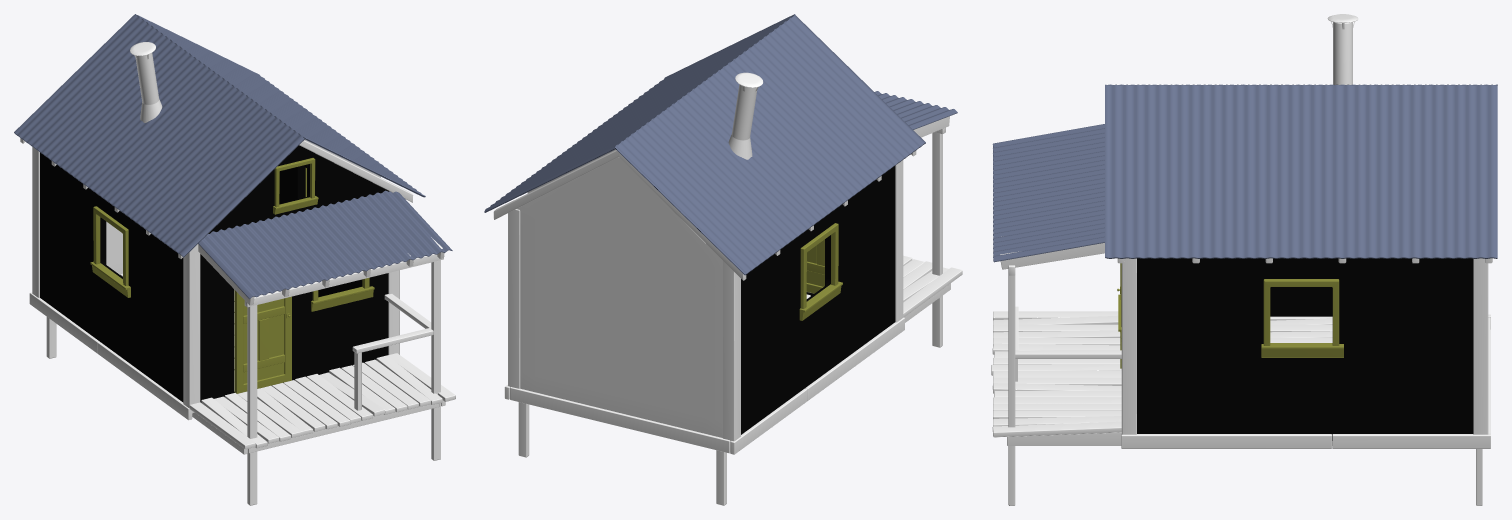
The model's file is MainBuilding_unwrapped.fbx.
3 views of the same model, side by side, from view 1: azimuth 30°, elevation 25°; view 2: azimuth 150°, elevation 25°; view 3: azimuth 270°, elevation 25° (orthographic). The views are drawn at different scales.
Visible parts, largest first — view 1: FrontWall_UVW001; view 2: FrontWall_UVW001; view 3: FrontWall_UVW001.
Boxes of the visible parts, x1,y1,x2,y2 form: FrontWall_UVW001: (14,14,455,505); FrontWall_UVW001: (484,14,962,505); FrontWall_UVW001: (991,14,1497,505).
Bounding box in the file's own units: 395 × 536 × 610.
